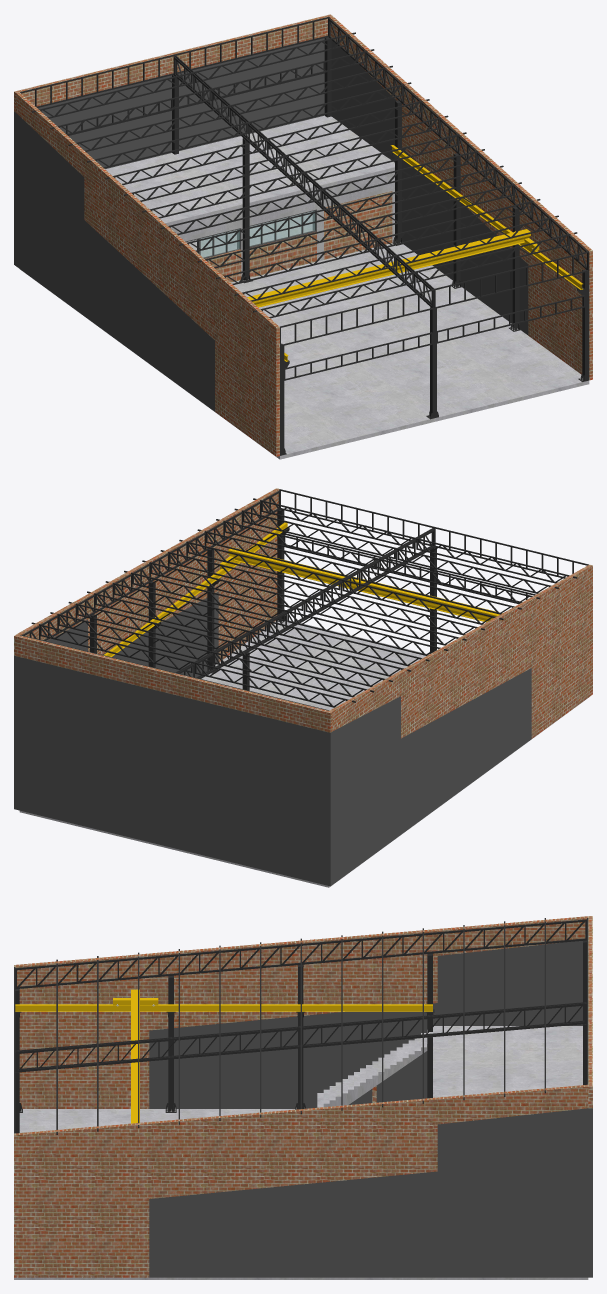
Rendered from zavod 2.fbx.
3 views of the same model, one above another, from view 1: azimuth 30°, elevation 25°; view 2: azimuth 150°, elevation 25°; view 3: azimuth 270°, elevation 25° (orthographic). The views are drawn at different scales.
Visible parts, largest first — view 1: Object_4; view 2: Object_4; view 3: Object_4.
Part boxes in pixels (x1,y1,x2,y2): Object_4: (14, 14, 592, 459); Object_4: (14, 488, 592, 887); Object_4: (14, 916, 592, 1279).
Size of the model in its own units: 1830 by 956 by 2570.
8 materials, 2 textured.
